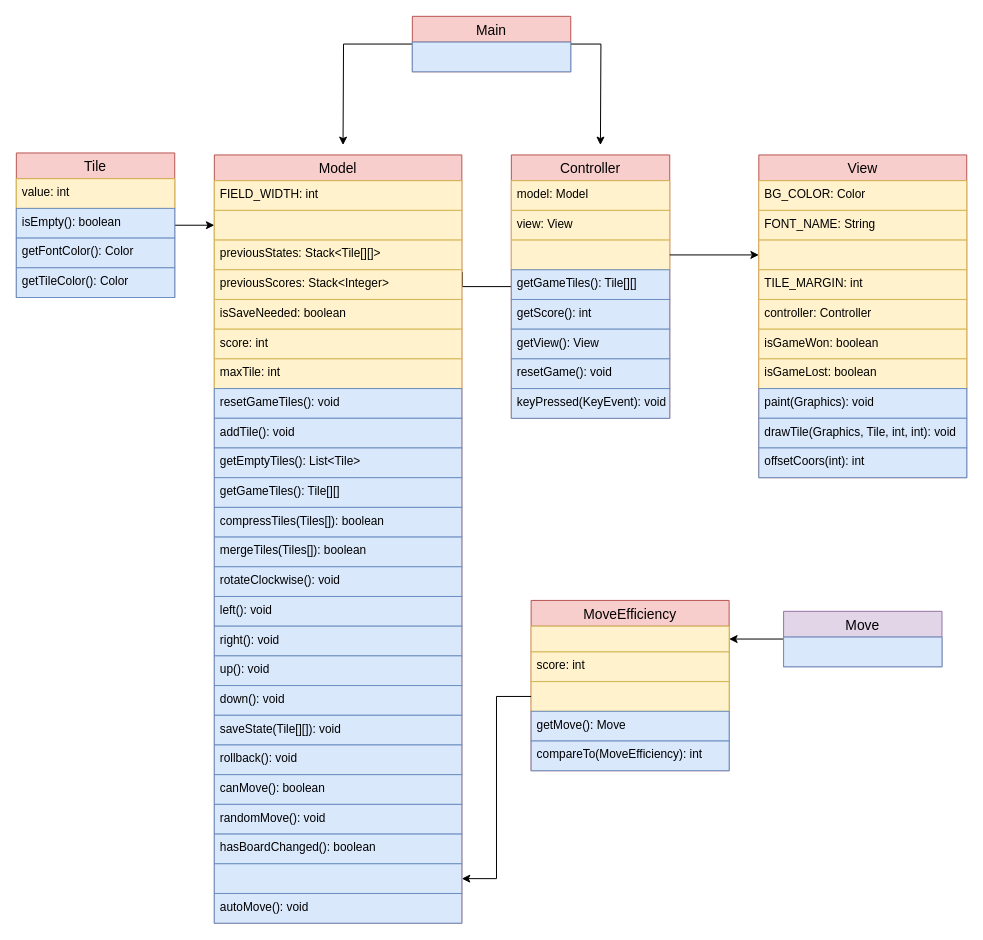
Some shapes in this 983 by 940 pixel diagram are drawn without their labels. Each missing label, with the centre of its shape:
gameTiles: Tile[][]: the point at 337,224
getMoveEfficiency(Move): MoveEfficiency: the point at 337,878
main(String[]): void: the point at 491,56
move(): void: the point at 862,651
move: Move: the point at 629,696
numberOfEmptyTiles: int: the point at 629,638
TILE_SIZE: int: the point at 862,254
WINNING_TITLE: int: the point at 590,254
